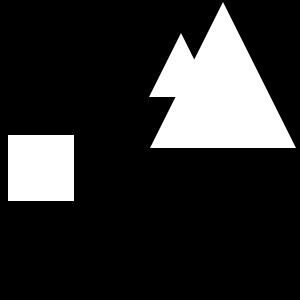circle: (8, 135, 74, 201)
triangle: (150, 2, 296, 148), (149, 33, 213, 97)
